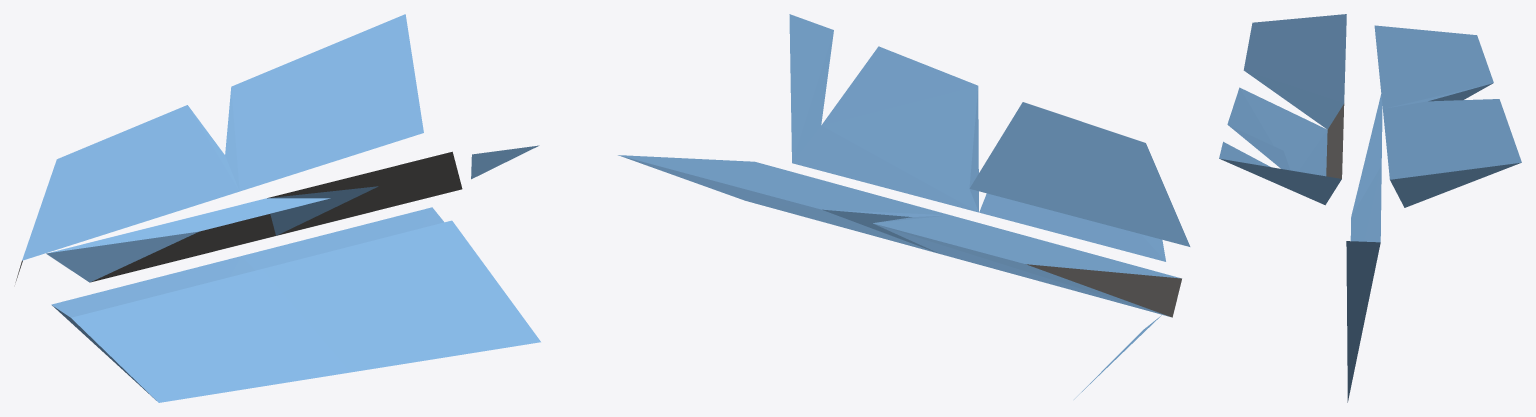
File: plume_wings_blue.glb
3 views of the same model, side by side, from view 1: azimuth 30°, elevation 25°; view 2: azimuth 150°, elevation 25°; view 3: azimuth 270°, elevation 25° (orthographic). The views are drawn at different scales.
Visible parts, largest first — view 1: group1798053712; view 2: group1798053712; view 3: group1798053712.
Boxes of the visible parts, x1,y1,x2,y2 form: group1798053712: (15,14,540,402); group1798053712: (618,14,1190,399); group1798053712: (1219,14,1521,402).
Size of the model in its own units: 0.1045 by 0.0536 by 0.0632.
